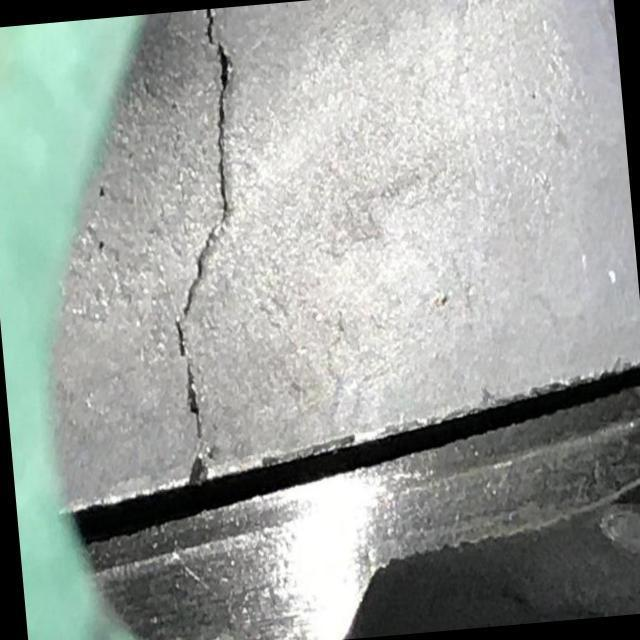defect: (162, 10, 237, 481)
